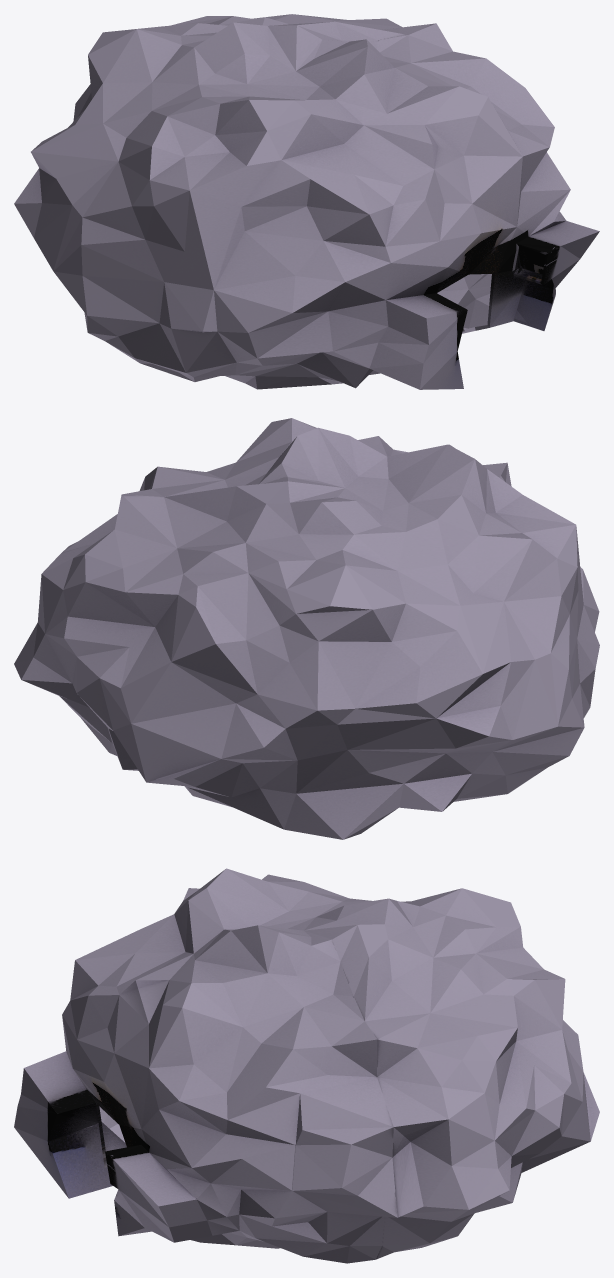
File: templerock.glb
The picture shows the model from 3 angles, top to bottom: view 1: azimuth 30°, elevation 25°; view 2: azimuth 150°, elevation 25°; view 3: azimuth 270°, elevation 25°; orthographic projection. The views are drawn at different scales.
Parts seen in each view (by area): view 1: Landscape.021; view 2: Landscape.021; view 3: Landscape.021.
Boxes of the visible parts, x1,y1,x2,y2 form: Landscape.021: (14,14,599,389); Landscape.021: (14,418,599,839); Landscape.021: (14,868,599,1263).
Size of the model in its own units: 68.06 by 42.69 by 72.68.
1 material, 1 textured.
